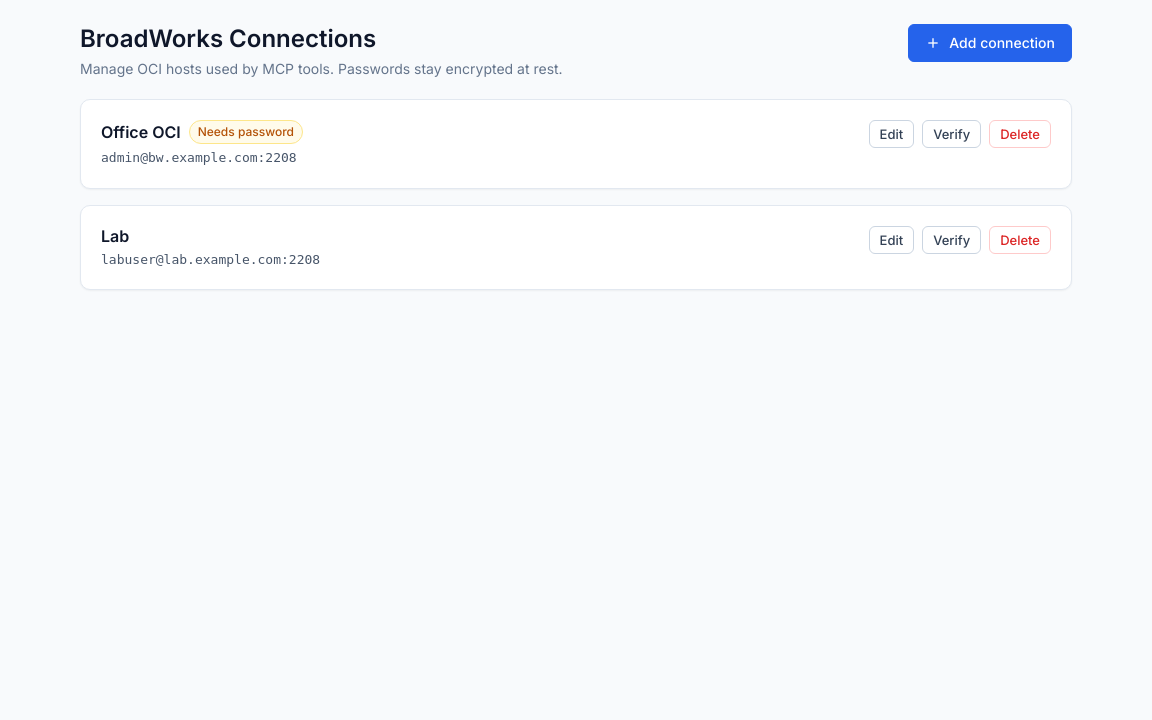
Test: ConnectionsListComponent › opens a confirm dialog for delete and does not use window.confirm
Step 1. Click the button with class "btn-outline-danger" in the row of "Needs password" → (1020, 134), box [989,120,1051,148]
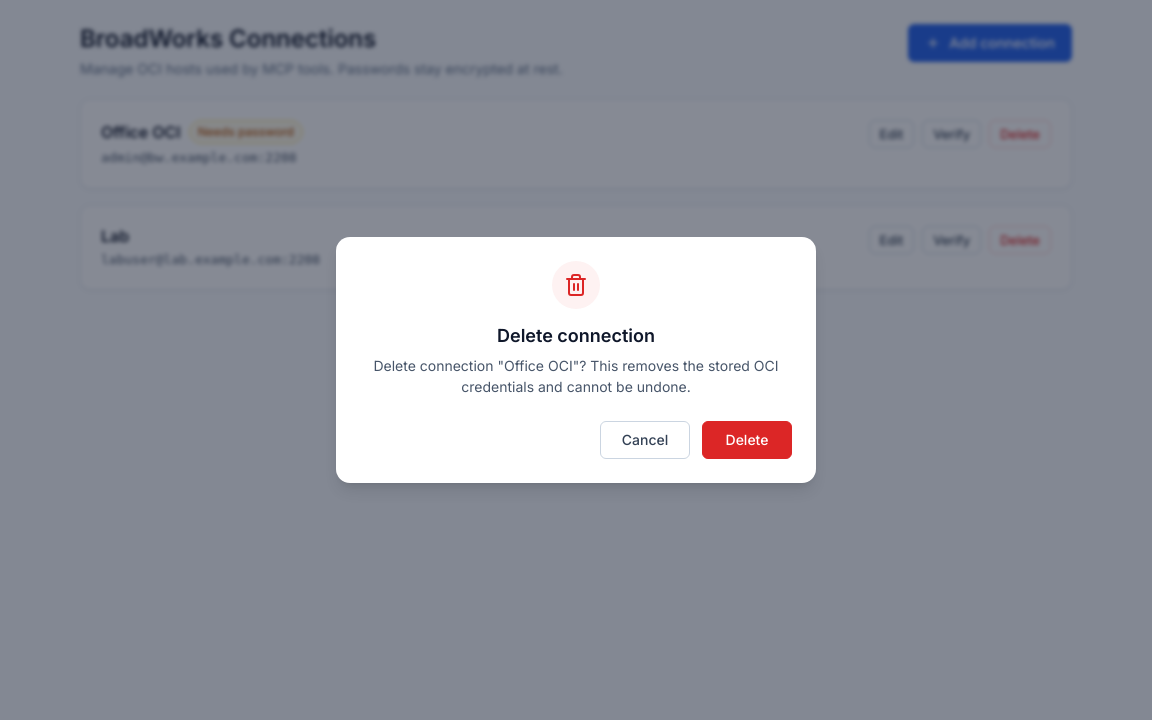
expect the dialog is shown: met, box [336,237,816,483]
expect the text "Delete connection \"Office OCI\"?" is shown: met, box [373,358,779,396]
Step 2. Click the button "Cancel" → (645, 440), box [600,422,690,459]
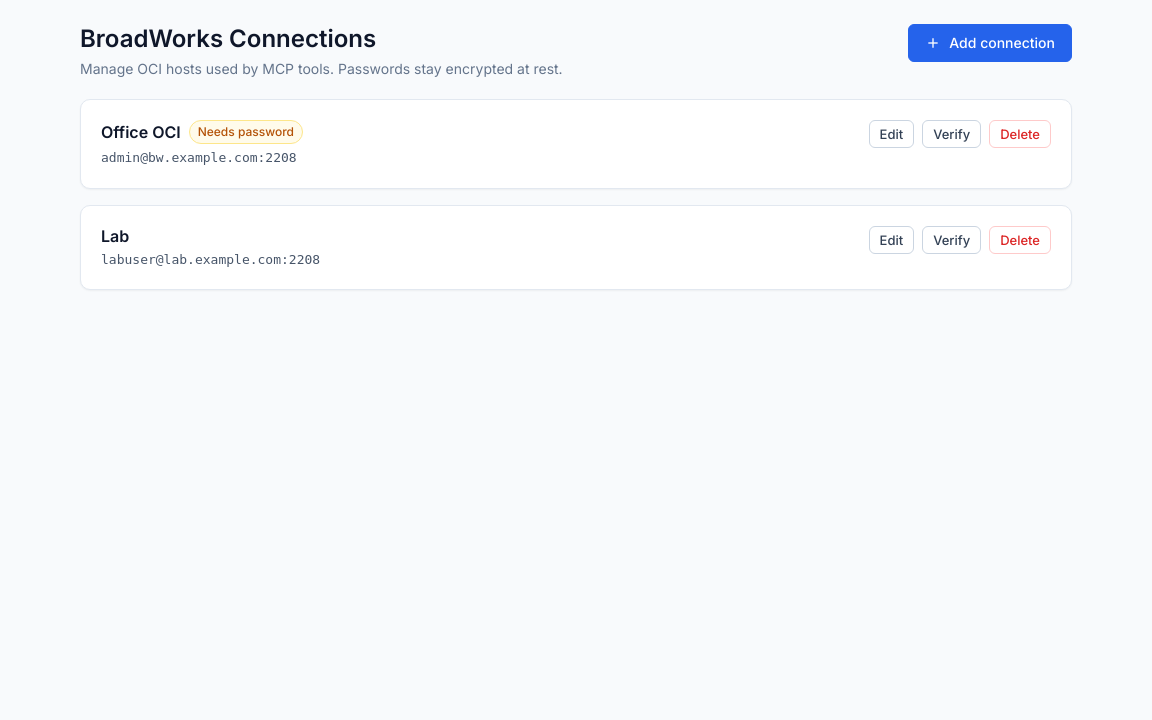
expect the dialog is gone: met
